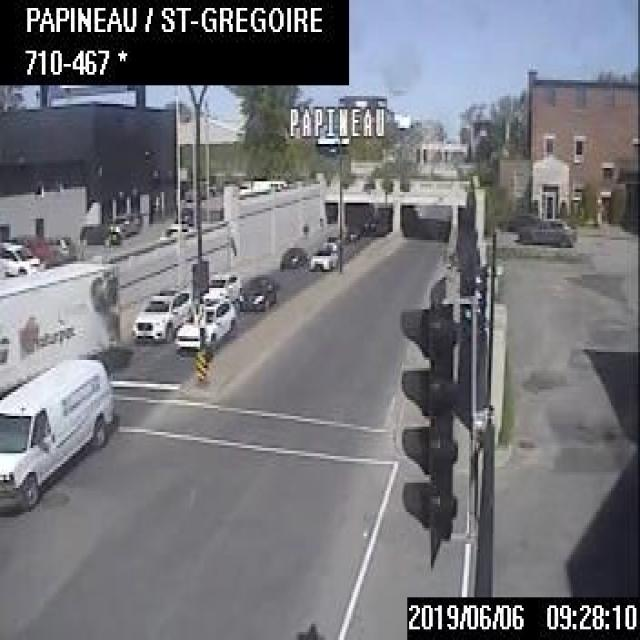vehicle: (0, 355, 118, 512), (2, 260, 126, 367), (127, 282, 190, 340), (178, 298, 230, 355), (233, 267, 277, 314), (517, 214, 577, 244), (0, 239, 40, 276), (203, 268, 237, 306), (78, 219, 124, 244), (308, 240, 342, 272), (276, 238, 306, 268)
